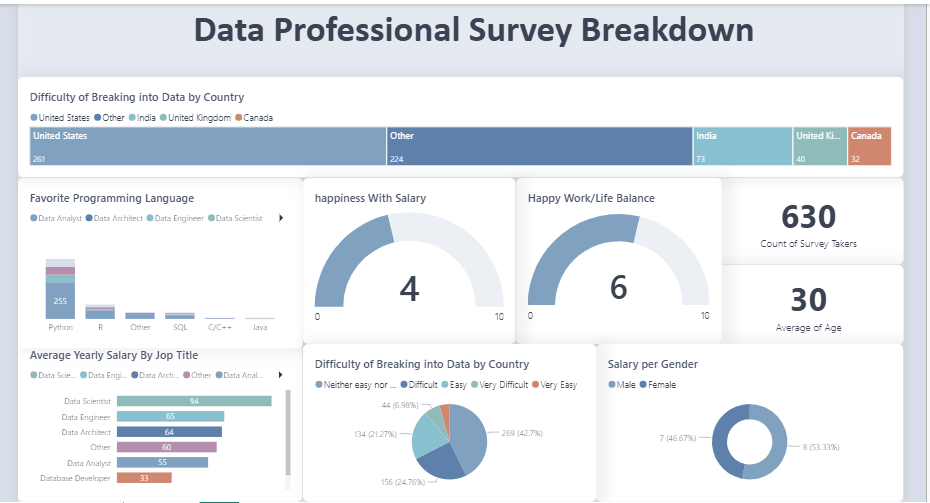

This screenshot's page, from the dashboard's own definition file:
{"tool":"powerbi","page":{"name":"Page 1","canvas":[1280,720],"ordinal":0},"visuals":[{"type":"textbox","box":[10.1,0,1269.9,105.8],"z":0},{"type":"card","fields":{"Values":["CountNonNull(Data Professional Survey.Unique ID)"]},"box":[1006.3,251.6,273.7,125.1],"z":1000},{"type":"card","fields":{"Values":["Avg(Data Professional Survey.Q10 - Current Age)"]},"box":[1006.3,376.6,273.7,114.8],"z":2000},{"type":"barChart","title":"Average Yearly Salary By Jop Title","fields":{"Category":["Data Professional Survey.Q1 - Which Title Best Fits your Current Role?.1"],"Y":["Avg(Data Professional Survey.Avgrage Yearly Salary)"],"Series":["Data Professional Survey.Q1 - Which Title Best Fits your Current Role?.1"]},"box":[0,478.6,411.4,241.4],"z":3000},{"type":"columnChart","title":"  Favorite Programming Language ","fields":{"Category":["Data Professional Survey.Q5 - Favorite Programming Language.1"],"Series":["Data Professional Survey.Q1 - Which Title Best Fits your Current Role?.1"],"Y":["CountNonNull(Data Professional Survey.Q5 - Favorite Programming Language.1)"]},"box":[0,251.6,412,245.7],"z":4000},{"type":"treemap","title":"Difficulty of Breaking into Data by Country","fields":{"Group":["Data Professional Survey.Q11 - Which Country do you live in?.1"],"Values":["CountNonNull(Data Professional Survey.Q11 - Which Country do you live in?.1)"]},"box":[0,105.8,1279.8,145.5],"z":5000},{"type":"gauge","title":" Happy Work/Life Balance","fields":{"Y":["Avg(Data Professional Survey.Q6 - How Happy are you in your Current Position with the following? (Work/Life Balance))"],"MinValue":["Min(Data Professional Survey.Q6 - How Happy are you in your Current Position with the following? (Work/Life Balance))1"],"MaxValue":["Max(Data Professional Survey.Q6 - How Happy are you in your Current Position with the following? (Work/Life Balance))2"],"TargetValue":["Sum(Data Professional Survey.Q6 - How Happy are you in your Current Position with the following? (Work/Life Balance))3"]},"box":[719.4,251.6,297.2,239.8],"z":6000},{"type":"gauge","title":"happiness With Salary","fields":{"Y":["Avg(Data Professional Survey.Q6 - How Happy are you in your Current Position with the following? (Salary))"],"MinValue":["Min(Data Professional Survey.Q6 - How Happy are you in your Current Position with the following? (Salary))1"],"MaxValue":["Max(Data Professional Survey.Q6 - How Happy are you in your Current Position with the following? (Salary))2"]},"box":[412,251.6,307.5,239.8],"z":7000},{"type":"donutChart","title":"Salary per Gender","fields":{"Category":["Data Professional Survey.Q9 - Male/Female?"],"Y":["Count(Data Professional Survey.Q3 - Current Yearly Salary (in USD))"]},"box":[835.7,491.4,444.3,228],"z":8000},{"type":"pieChart","title":"Difficulty of Breaking into Data by Country","fields":{"Category":["Data Professional Survey.Q7 - How difficult was it for you to break into Data?"],"Y":["CountNonNull(Data Professional Survey.Q11 - Which Country do you live in?.1)"]},"box":[412,491.4,423.7,228],"z":8001}]}

Visuals, with their boxes on the page's 1280x720 design canvas (x1, y1, x2, y2). These are canvas units, not pixel positions in the 930x503 screenshot, which may show the page scaled, cropped or inside an application window:
textbox: box(10, 0, 1280, 106)
card - CountNonNull(Data Professional Survey.Unique ID): box(1006, 252, 1280, 377)
card - Avg(Data Professional Survey.Q10 - Current Age): box(1006, 377, 1280, 491)
"Average Yearly Salary By Jop Title" barChart: box(0, 479, 411, 720)
"  Favorite Programming Language " columnChart: box(0, 252, 412, 497)
"Difficulty of Breaking into Data by Country" treemap: box(0, 106, 1280, 251)
" Happy Work/Life Balance" gauge: box(719, 252, 1017, 491)
"happiness With Salary" gauge: box(412, 252, 720, 491)
"Salary per Gender" donutChart: box(836, 491, 1280, 719)
"Difficulty of Breaking into Data by Country" pieChart: box(412, 491, 836, 719)
